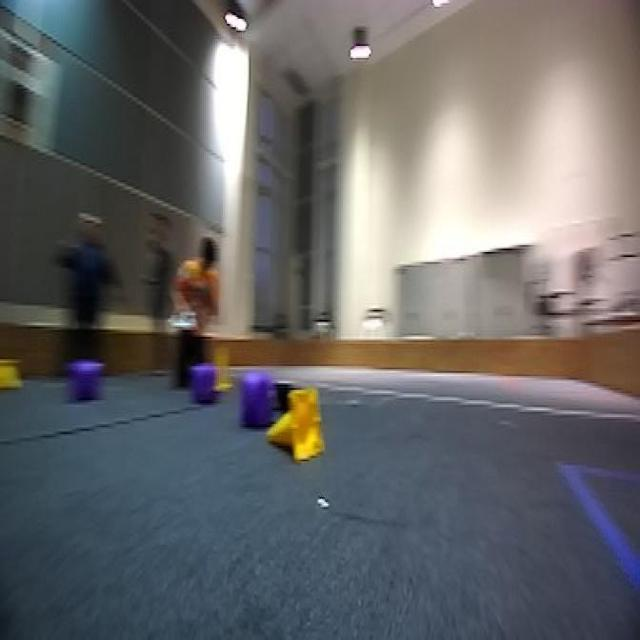frc_cone: (268, 386, 329, 463), (212, 341, 238, 392), (0, 361, 16, 385)
frc_cube: (240, 364, 280, 436), (75, 352, 104, 403), (186, 359, 216, 404)
